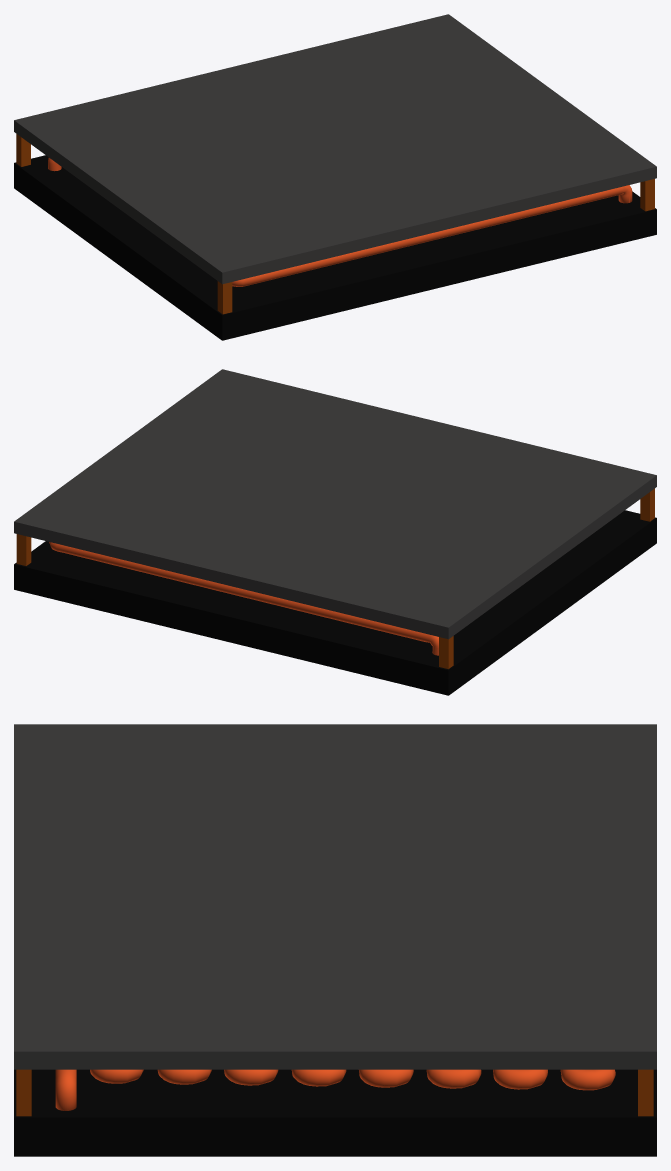
File: grillPlaat2.gltf
3 renders of one model, top to bottom at view 1: azimuth 30°, elevation 25°; view 2: azimuth 150°, elevation 25°; view 3: azimuth 270°, elevation 25°, orthographic. The views are drawn at different scales.
Visible parts, largest first — view 1: Cube.005, Cube, Cylinder, Cube.002; view 2: Cube.005, Cube, Cylinder; view 3: Cube.005, Cube, Cylinder, Cube.001, Cube.004.
Boxes of the visible parts, <box> form: Cube.005: <box>14,14,656,284</box>; Cube: <box>14,155,656,340</box>; Cylinder: <box>48,157,632,286</box>; Cube.002: <box>217,281,232,314</box>; Cube.005: <box>14,369,656,639</box>; Cube: <box>14,510,656,695</box>; Cylinder: <box>49,542,438,655</box>; Cube.005: <box>14,724,656,1069</box>; Cube: <box>14,1069,656,1156</box>; Cylinder: <box>55,1069,615,1110</box>; Cube.001: <box>16,1069,31,1116</box>; Cube.004: <box>638,1069,653,1116</box>.
Size of the model in its own units: 9.95 by 1.49 by 8.26.
